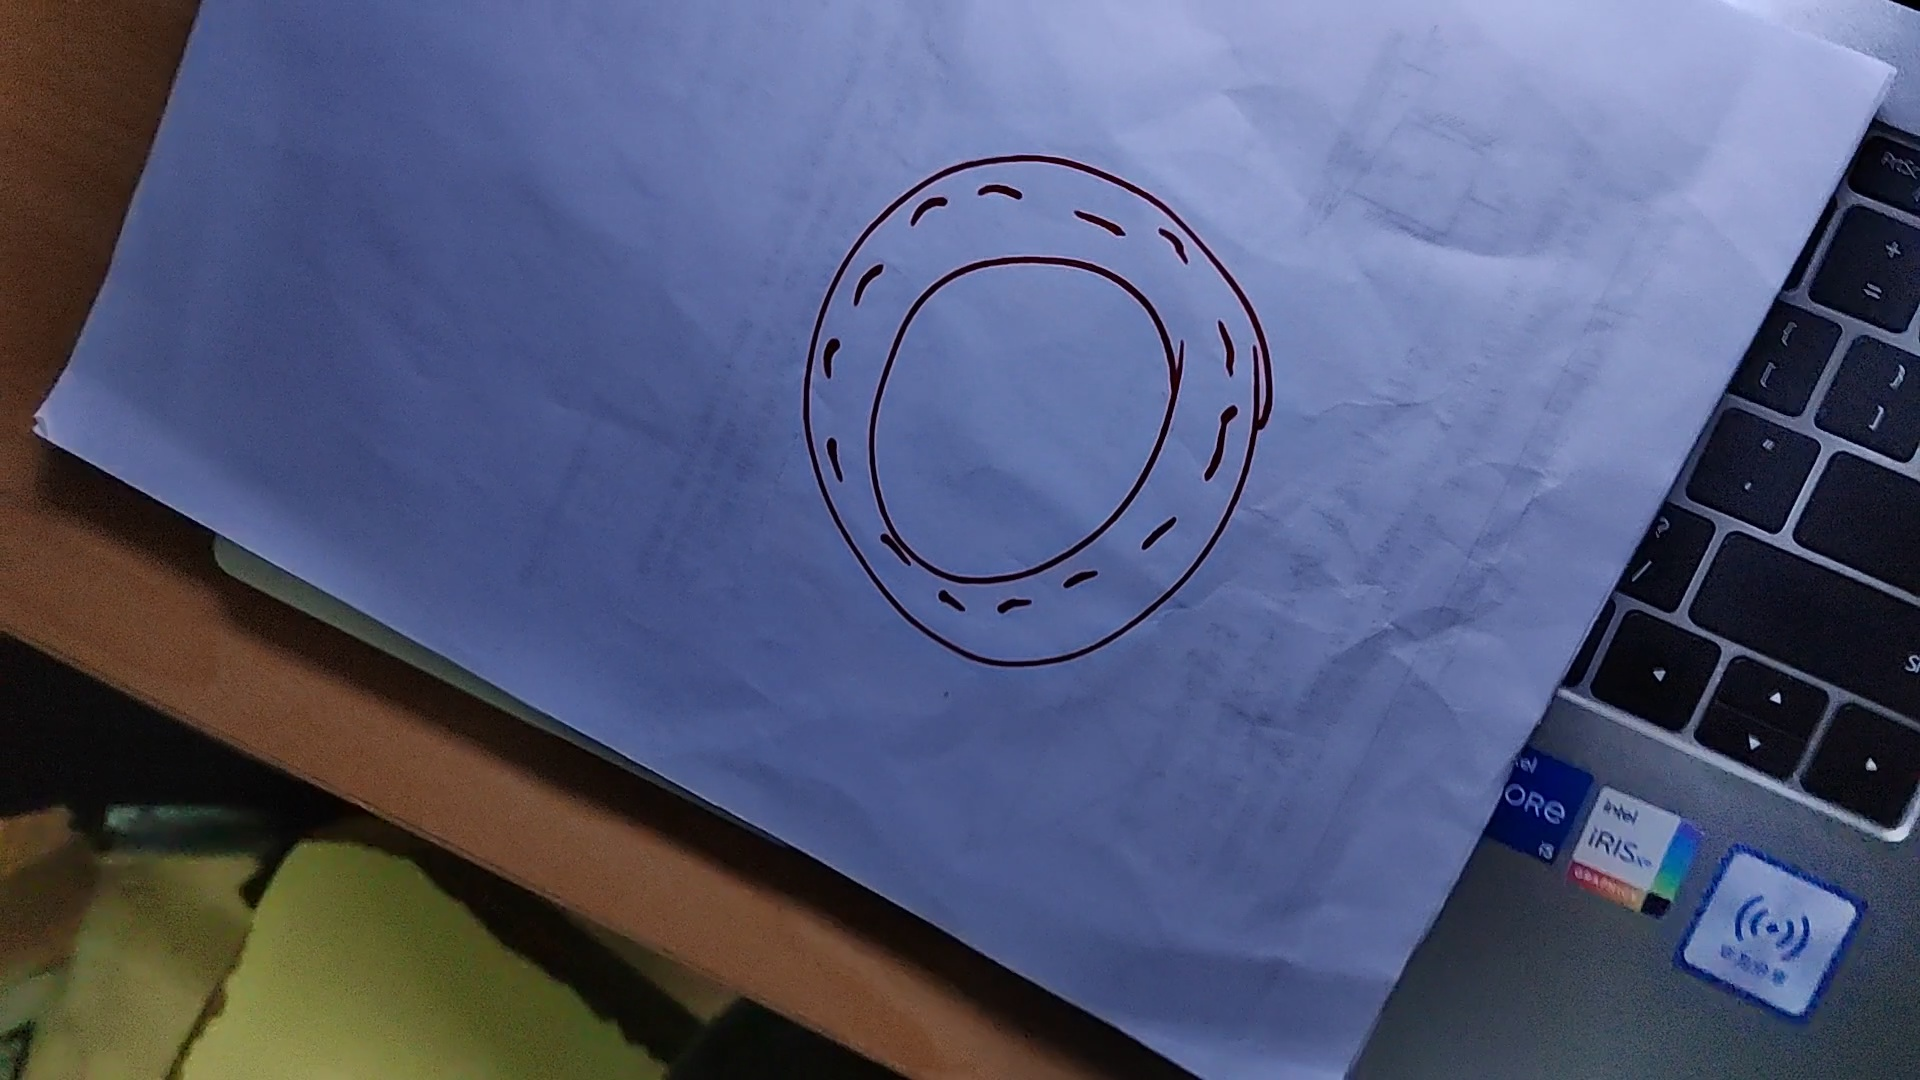circle: (800, 154, 1276, 667)
